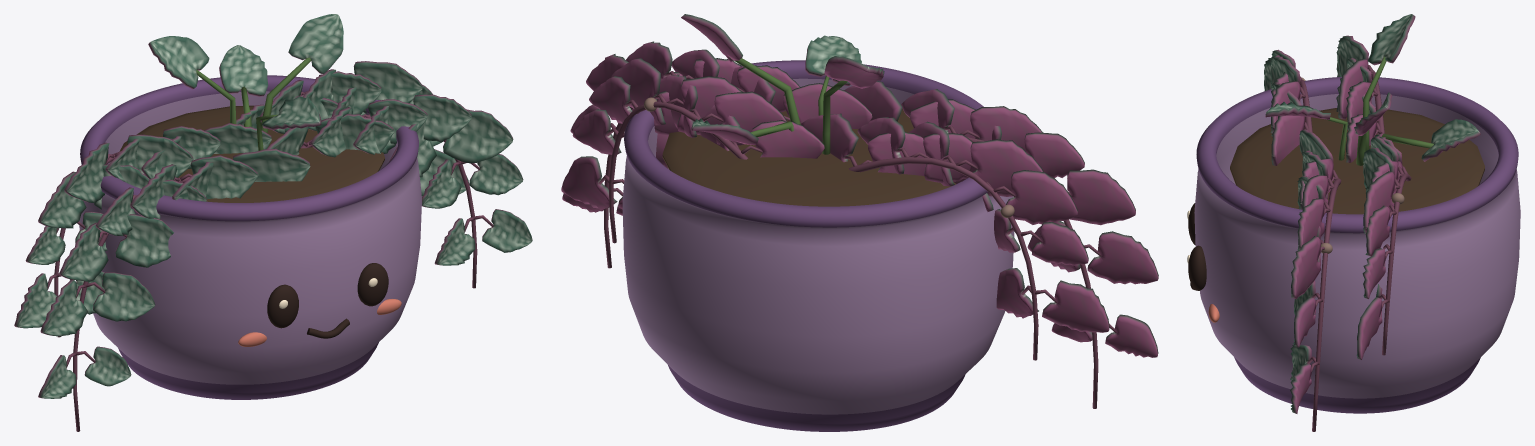
File: string-of-hearts-v1.glb
3 views of the same model, side by side, from view 1: azimuth 30°, elevation 25°; view 2: azimuth 150°, elevation 25°; view 3: azimuth 270°, elevation 25° (orthographic). The views are drawn at different scales.
Parts seen in each view (by area): view 1: Foliage draw mesh, Wheel-thrown ceramic, Soil, Eye, Eye.001; view 2: Wheel-thrown ceramic, Foliage draw mesh, Soil; view 3: Wheel-thrown ceramic, Foliage draw mesh, Soil, Eye.001.
Part boxes in pixels (x1,y1,x2,y2): Foliage draw mesh: (14, 14, 532, 431); Wheel-thrown ceramic: (79, 75, 421, 399); Soil: (119, 105, 384, 202); Eye: (267, 284, 298, 328); Eye.001: (357, 263, 388, 306); Wheel-thrown ceramic: (622, 60, 1014, 431); Foliage draw mesh: (561, 14, 1158, 408); Soil: (662, 108, 955, 206); Wheel-thrown ceramic: (1194, 77, 1520, 413); Foliage draw mesh: (1264, 14, 1480, 431); Soil: (1230, 108, 1484, 214); Eye.001: (1188, 245, 1206, 290).
Size of the model in its own units: 2.72 by 1.6 by 1.53.
